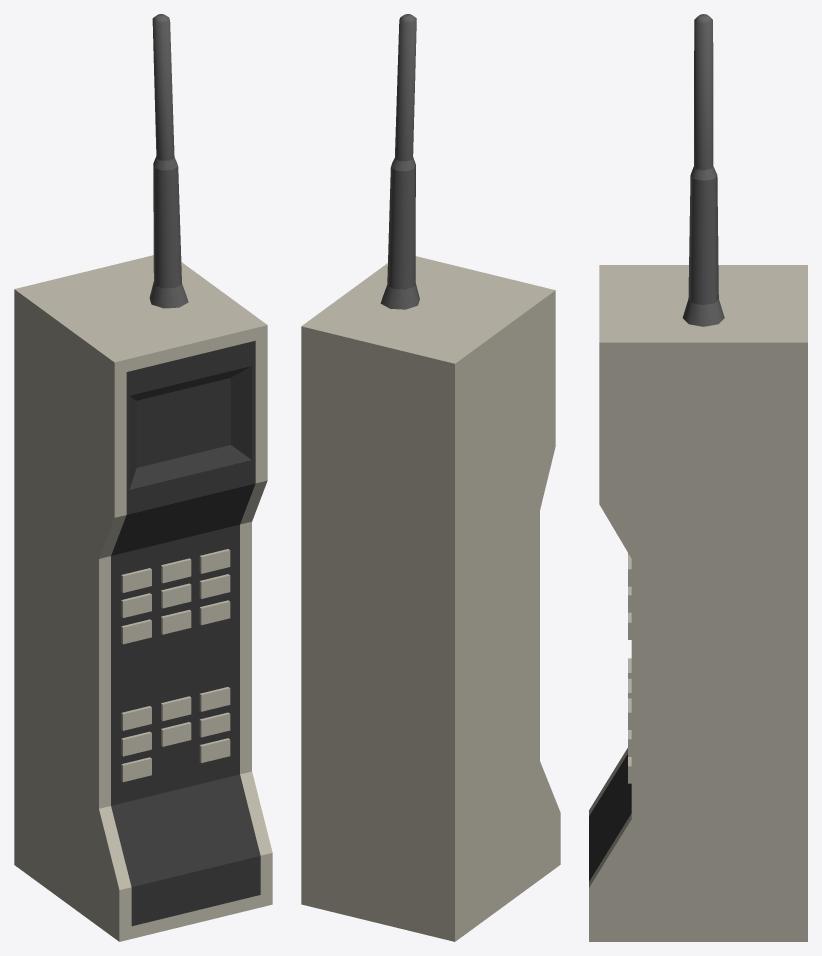
File: Telephone_01.fbx
The picture shows the model from 3 angles, left to right: view 1: azimuth 30°, elevation 25°; view 2: azimuth 150°, elevation 25°; view 3: azimuth 270°, elevation 25°; orthographic projection. The views are drawn at different scales.
Parts seen in each view (by area): view 1: Telephone_01; view 2: Telephone_01; view 3: Telephone_01.
Boxes of the visible parts, bbox=[...] form: Telephone_01: bbox=[14, 14, 272, 941]; Telephone_01: bbox=[301, 14, 560, 941]; Telephone_01: bbox=[589, 14, 807, 941].
Size of the model in its own units: 0.085 by 0.4569 by 0.101.
